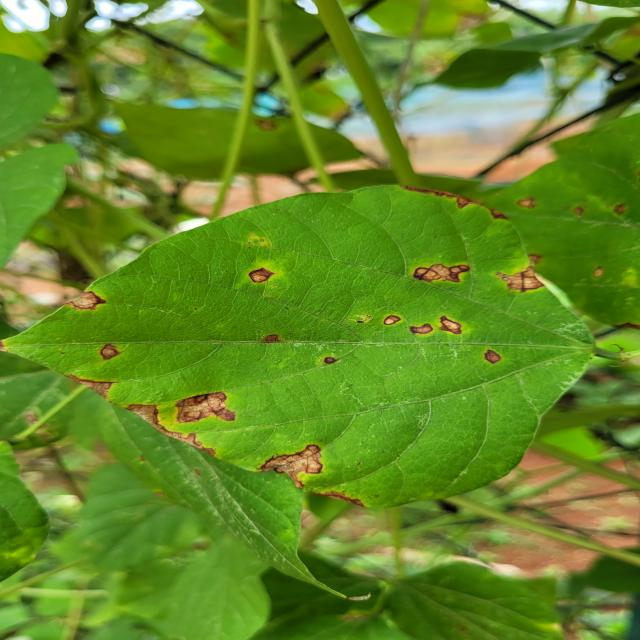Dolicos bean_cercospora leaf spot: (0, 181, 603, 510)
Dolicos bean_healthy: (29, 459, 206, 563)
